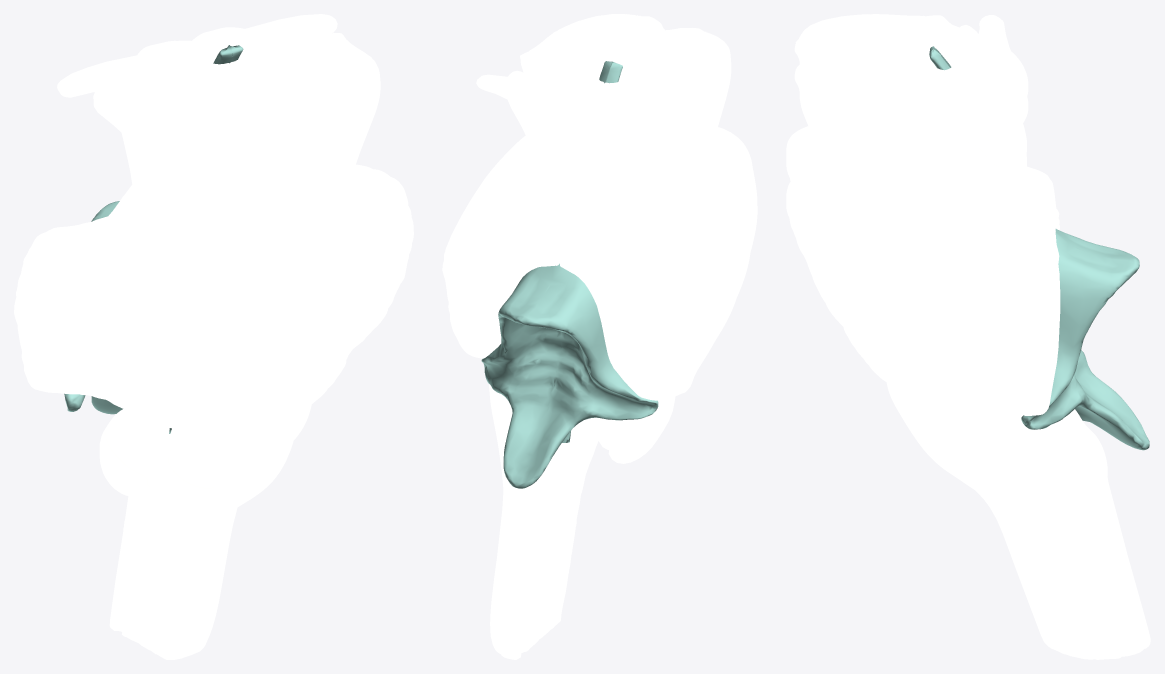
The model's file is brainstem.glb.
The picture shows the model from 3 angles, left to right: view 1: azimuth 30°, elevation 25°; view 2: azimuth 150°, elevation 25°; view 3: azimuth 270°, elevation 25°; orthographic projection. The views are drawn at different scales.
Parts seen in each view (by area): view 1: Pons.r, Midbrain.r, Medulla oblongata.l, Pons.l, Midbrain.l, Olive.r, Pyramid of medulla oblongata.r, Superior colliculus.r, Superior colliculus.l, Fourth ventricle, Inferior colliculus.r; view 2: Pons.r, Fourth ventricle, Midbrain.r, Pons.l, Medulla oblongata.l, Midbrain.l, Olive.r, Superior colliculus.r, Inferior colliculus.r, Superior colliculus.l, Inferior colliculus.l, Pyramid of medulla oblongata.r; view 3: Pons.l, Medulla oblongata.l, Midbrain.l, Fourth ventricle, Midbrain.r, Pons.r, Inferior colliculus.l, Superior colliculus.l, Superior colliculus.r.
Part boxes in pixels (x1=…): Pons.r: x1=14, y1=185, x2=303, y2=434; Midbrain.r: x1=112, y1=40, x2=297, y2=234; Medulla oblongata.l: x1=109, y1=404, x2=311, y2=659; Pons.l: x1=253, y1=164, x2=413, y2=417; Midbrain.l: x1=192, y1=27, x2=380, y2=223; Olive.r: x1=99, y1=409, x2=169, y2=496; Pyramid of medulla oblongata.r: x1=160, y1=427, x2=237, y2=508; Superior colliculus.r: x1=57, y1=54, x2=140, y2=97; Superior colliculus.l: x1=245, y1=14, x2=337, y2=33; Fourth ventricle: x1=64, y1=201, x2=171, y2=433; Inferior colliculus.r: x1=93, y1=81, x2=121, y2=132; Pons.r: x1=560, y1=127, x2=757, y2=400; Fourth ventricle: x1=481, y1=263, x2=658, y2=488; Midbrain.r: x1=575, y1=28, x2=731, y2=209; Pons.l: x1=442, y1=135, x2=580, y2=358; Medulla oblongata.l: x1=489, y1=384, x2=599, y2=659; Midbrain.l: x1=520, y1=14, x2=665, y2=203; Olive.r: x1=608, y1=396, x2=675, y2=463; Superior colliculus.r: x1=616, y1=110, x2=697, y2=145; Inferior colliculus.r: x1=610, y1=110, x2=689, y2=178; Superior colliculus.l: x1=476, y1=74, x2=542, y2=121; Inferior colliculus.l: x1=508, y1=70, x2=548, y2=154; Pyramid of medulla oblongata.r: x1=597, y1=418, x2=621, y2=449; Pons.l: x1=786, y1=163, x2=1060, y2=415; Medulla oblongata.l: x1=886, y1=382, x2=1150, y2=659; Midbrain.l: x1=794, y1=56, x2=1028, y2=213; Fourth ventricle: x1=1021, y1=229, x2=1149, y2=450; Midbrain.r: x1=794, y1=14, x2=1028, y2=154; Pons.r: x1=786, y1=126, x2=1059, y2=230; Inferior colliculus.l: x1=953, y1=114, x2=1011, y2=170; Superior colliculus.l: x1=976, y1=92, x2=1015, y2=142; Superior colliculus.r: x1=978, y1=15, x2=1011, y2=51.
Size of the model in its own units: 0.041 by 0.0796 by 0.0444.
